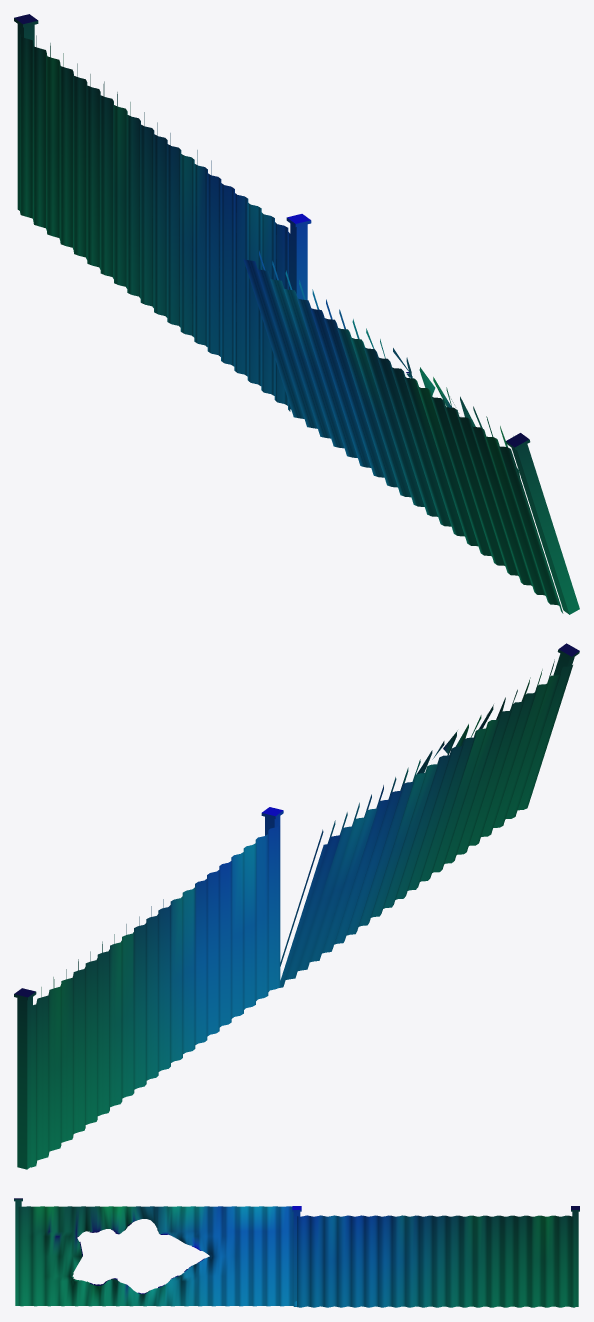
File: woodenfencediag_damaged.glb
The picture shows the model from 3 angles, top to bottom: view 1: azimuth 30°, elevation 25°; view 2: azimuth 150°, elevation 25°; view 3: azimuth 270°, elevation 25°; orthographic projection. The views are drawn at different scales.
Parts seen in each view (by area): view 1: lod0; view 2: lod0; view 3: lod0.
Part boxes in pixels (x1=…): lod0: x1=14, y1=14, x2=579, y2=614; lod0: x1=14, y1=643, x2=579, y2=1169; lod0: x1=14, y1=1198, x2=579, y2=1307.
Size of what is drawn, in the model's own units: 0.908 by 2.39 by 12.4.
